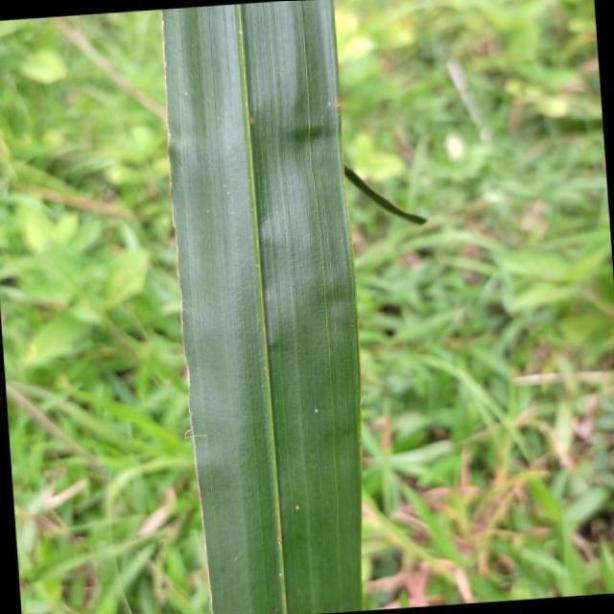Boron: (163, 6, 366, 614)
